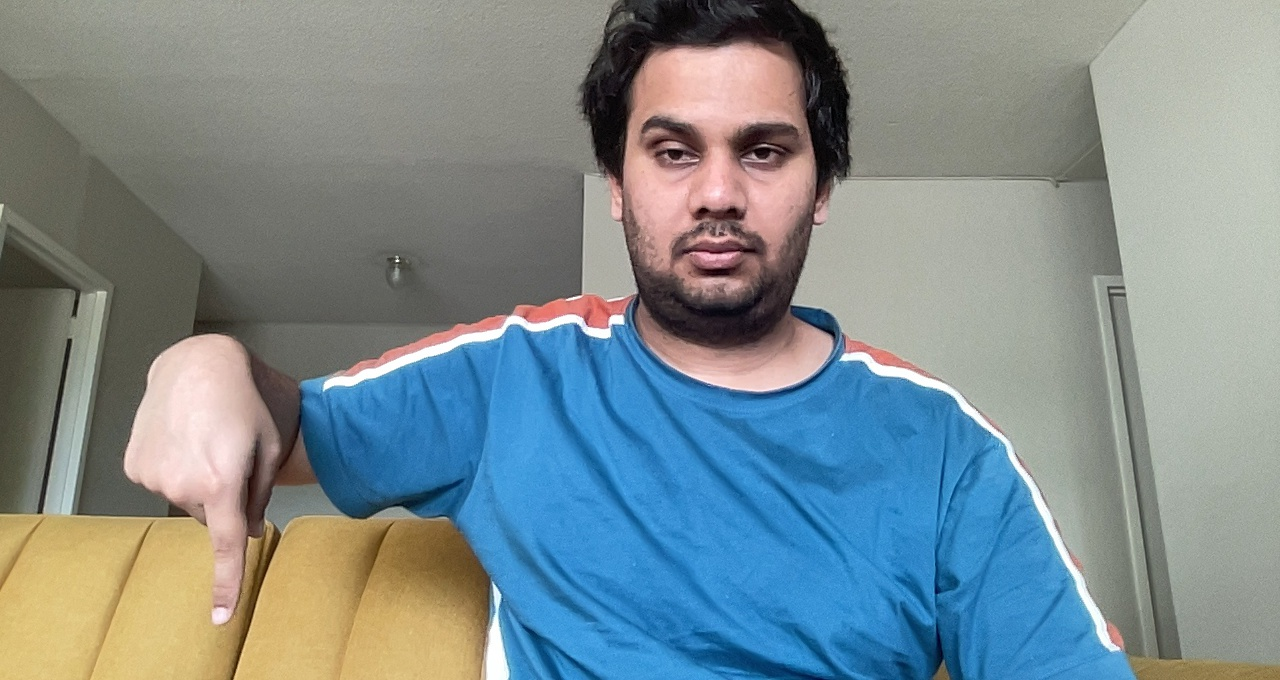fingerdown: (116, 329, 288, 631)
